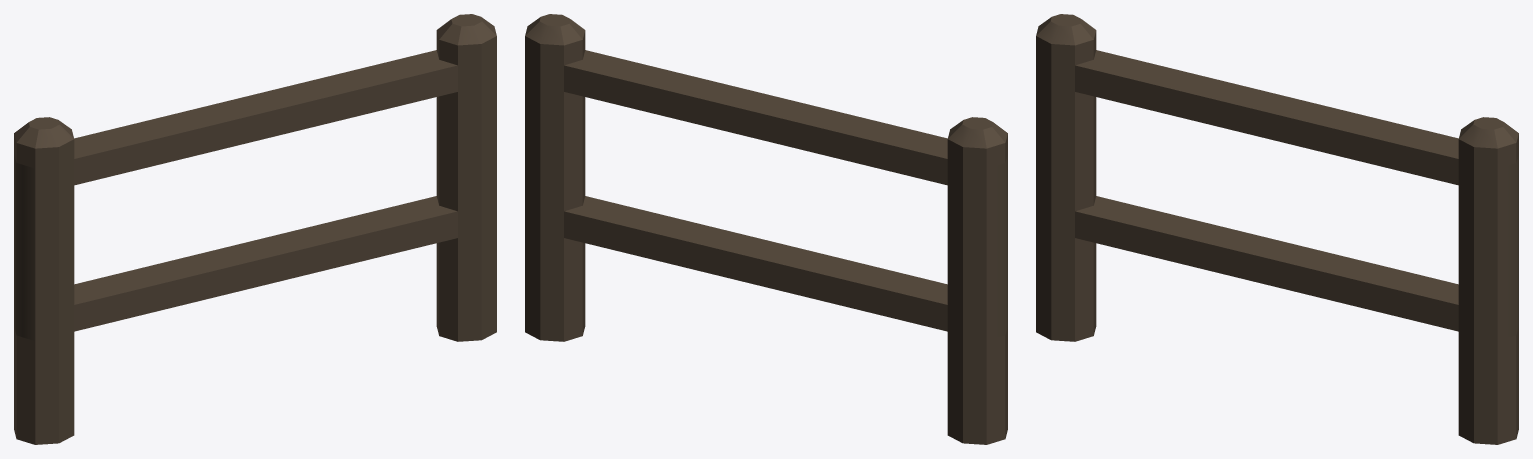
The model's file is fence.fbx.
The picture shows the model from 3 angles, left to right: view 1: azimuth 30°, elevation 25°; view 2: azimuth 150°, elevation 25°; view 3: azimuth 330°, elevation 25°; orthographic projection.
Parts seen in each view (by area): view 1: fence; view 2: fence; view 3: fence.
Part boxes in pixels (x1,y1,x2,y2): fence: (14,14,496,444); fence: (525,14,1007,444); fence: (1036,14,1518,444).
Bounding box in the file's own units: 13.57 × 8.39 × 1.47.
